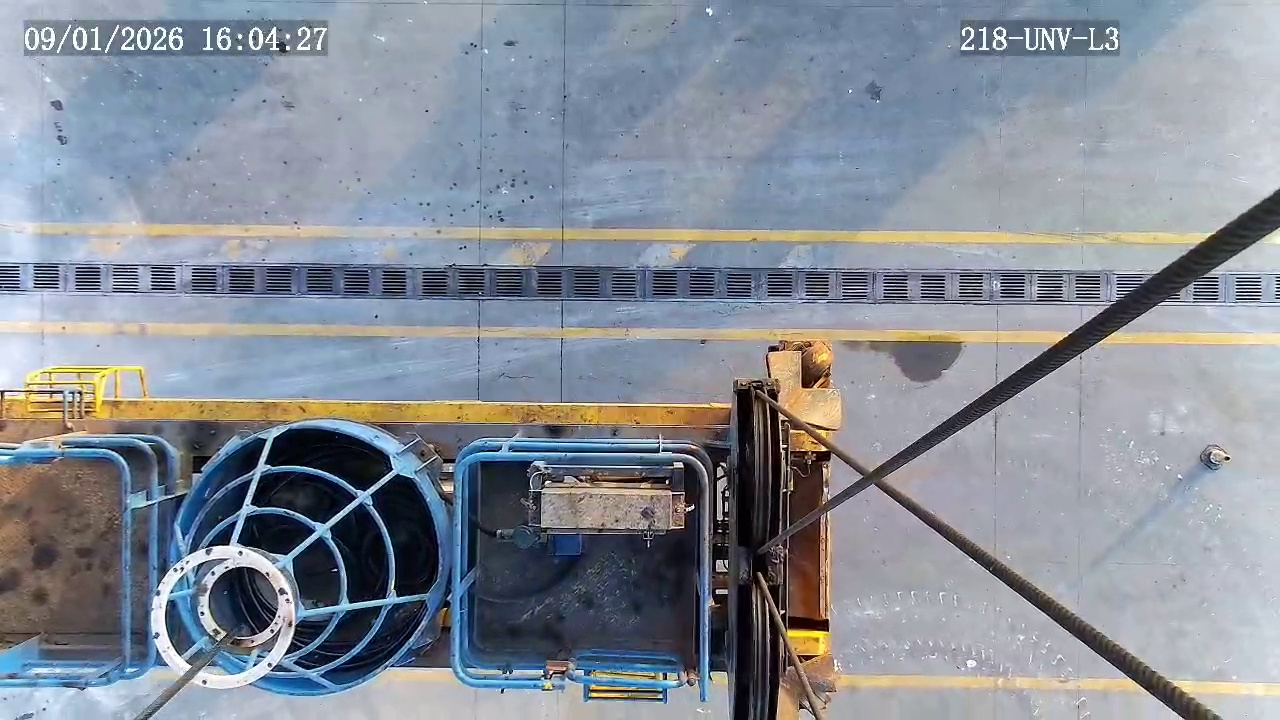right: (170, 424, 443, 695)
